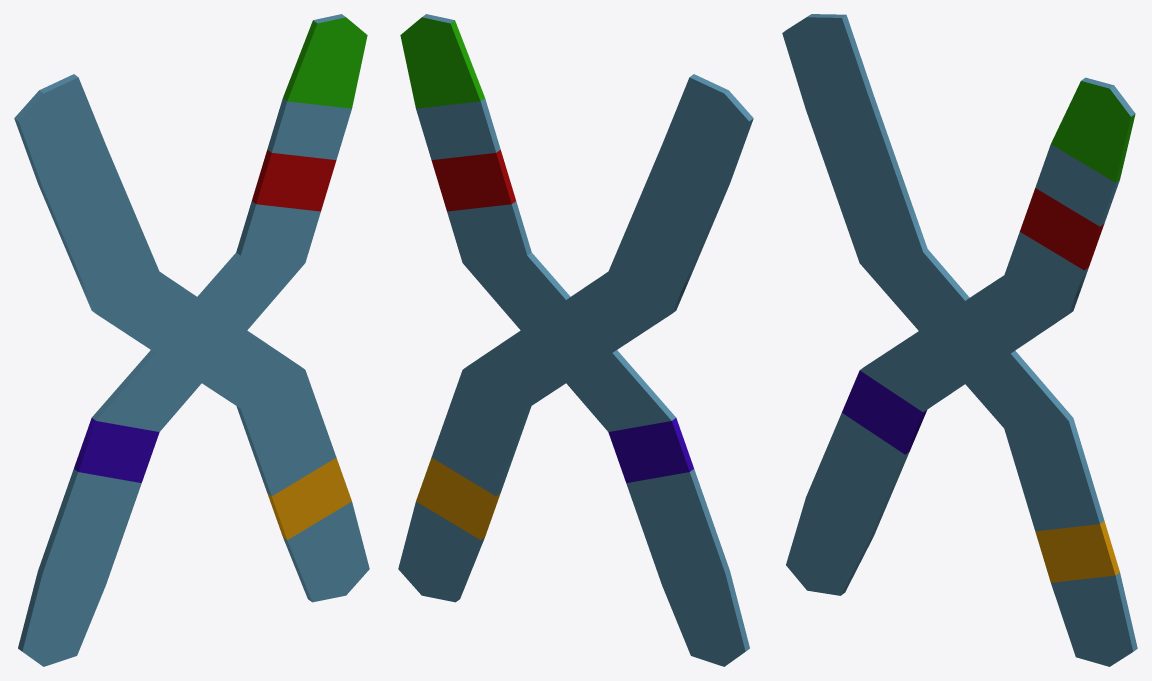
The model's file is alleles.fbx.
3 renders of one model, left to right at view 1: azimuth 30°, elevation 25°; view 2: azimuth 150°, elevation 25°; view 3: azimuth 330°, elevation 25°, orthographic.
Visible parts, largest first — view 1: alleles; view 2: alleles; view 3: alleles.
Boxes of the visible parts, <box> form: alleles: <box>14,14,369,666</box>; alleles: <box>398,14,753,666</box>; alleles: <box>782,14,1137,666</box>.
Bounding box in the file's own units: 96.01 × 153 × 2.14.
